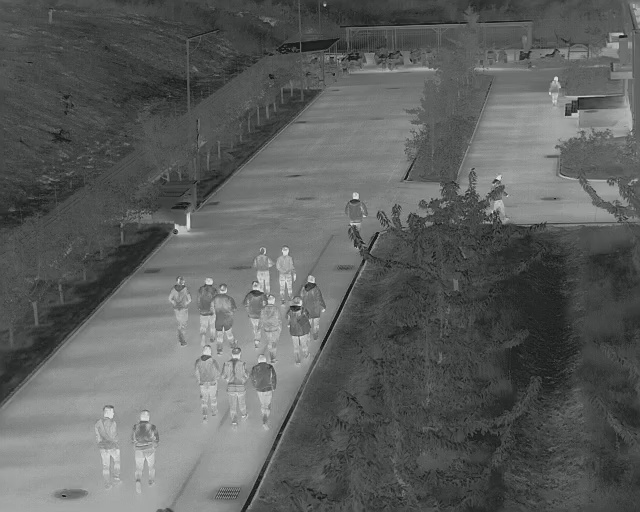person: (94, 400, 125, 490), (130, 408, 161, 496), (251, 351, 281, 430), (191, 344, 221, 422), (222, 346, 249, 429), (300, 272, 326, 337), (169, 274, 192, 347), (285, 296, 310, 362), (213, 284, 237, 345), (196, 273, 214, 344), (259, 293, 281, 340), (243, 278, 262, 331), (250, 242, 274, 281), (276, 245, 297, 289), (490, 173, 510, 219), (344, 188, 367, 227), (549, 73, 561, 106)
